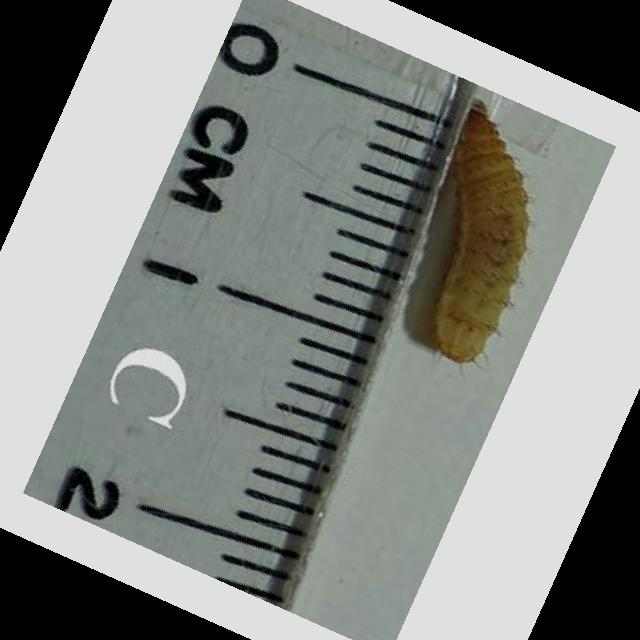Maggot: (429, 101, 538, 371)
